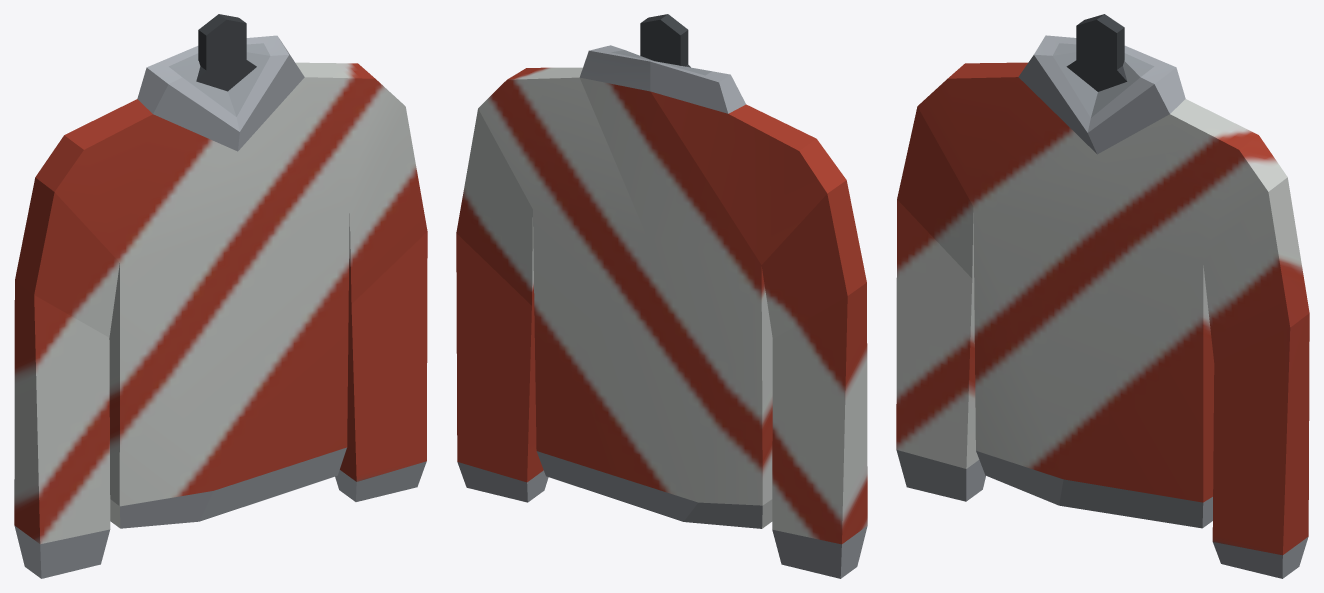
Rendered from SM_Prop_Clothes_Jacket_03.obj.
3 views of the same model, side by side, from view 1: azimuth 30°, elevation 25°; view 2: azimuth 150°, elevation 25°; view 3: azimuth 330°, elevation 25° (orthographic).
Parts seen in each view (by area): view 1: SM_Prop_Clothes_Jacket_03_0; view 2: SM_Prop_Clothes_Jacket_03_0; view 3: SM_Prop_Clothes_Jacket_03_0.
Boxes of the visible parts, x1,y1,x2,y2 form: SM_Prop_Clothes_Jacket_03_0: (14, 14, 427, 578); SM_Prop_Clothes_Jacket_03_0: (456, 14, 867, 578); SM_Prop_Clothes_Jacket_03_0: (896, 14, 1309, 578).
Size of the model in its own units: 0.7911 by 0.9833 by 0.1184.
1 material, 1 textured.
